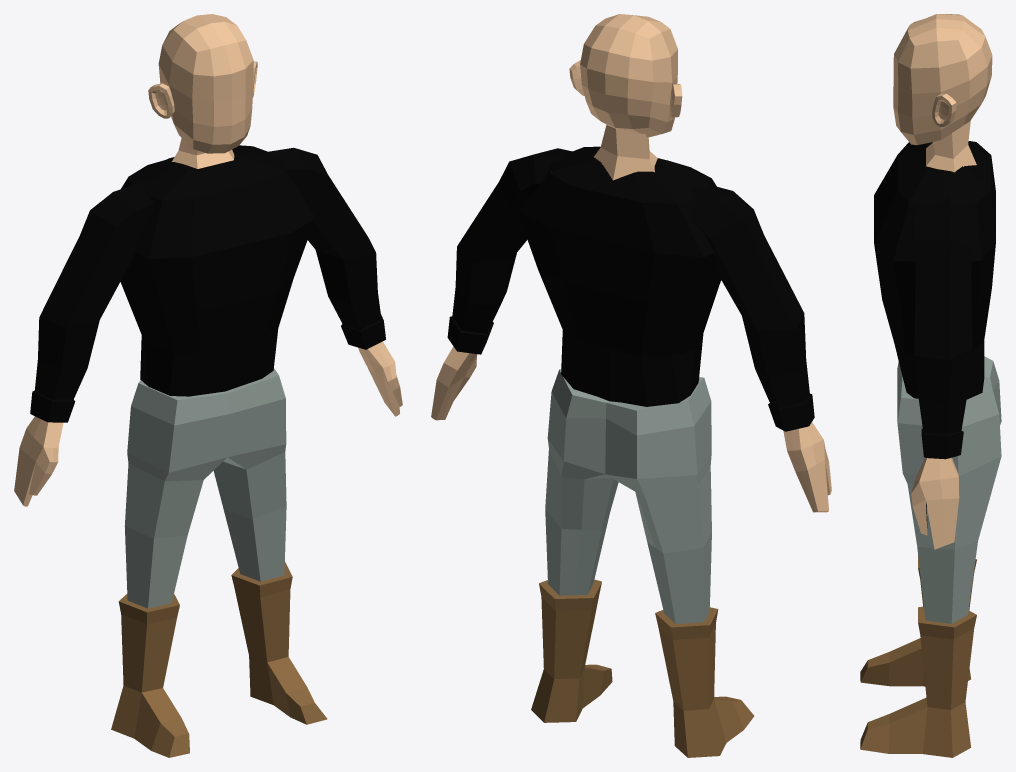
File: man1.fbx
The picture shows the model from 3 angles, left to right: view 1: azimuth 30°, elevation 25°; view 2: azimuth 150°, elevation 25°; view 3: azimuth 270°, elevation 25°; orthographic projection. The views are drawn at different scales.
Parts seen in each view (by area): view 1: legs, body, arms, head, neck, ear; view 2: legs, body, arms, head, neck, ear; view 3: legs, arms, body, head, neck, ear.
Part boxes in pixels (box(x1,y1,x2,y2)): legs: box(111, 368, 327, 757); body: box(120, 145, 315, 396); arms: box(14, 147, 402, 506); head: box(158, 14, 253, 153); neck: box(172, 138, 234, 168); ear: box(148, 61, 257, 118); legs: box(531, 369, 754, 757); body: box(518, 146, 721, 406); arms: box(431, 148, 831, 512); head: box(580, 14, 677, 137); neck: box(594, 125, 657, 180); ear: box(569, 60, 682, 117); legs: box(860, 356, 1001, 757); arms: box(911, 197, 973, 549); body: box(874, 141, 995, 399); head: box(893, 14, 992, 145); neck: box(926, 120, 976, 172); ear: box(932, 93, 956, 126).
Size of the model in its own units: 95.6 by 167 by 30.81.
